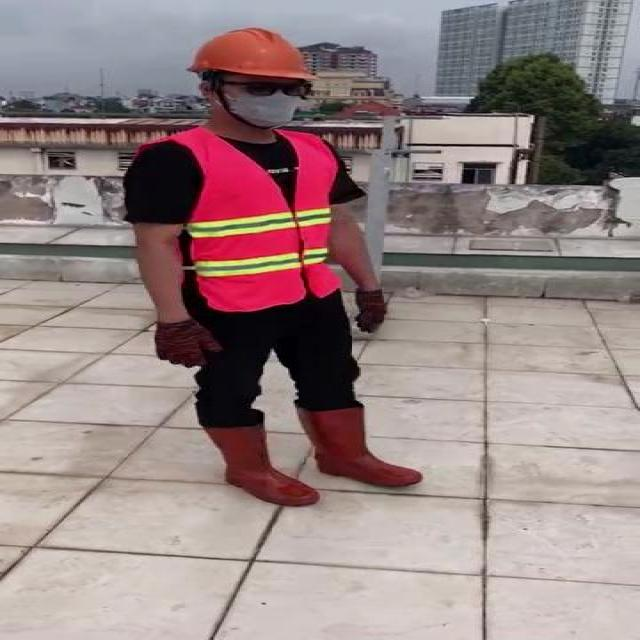boots: (299, 405, 421, 486), (206, 424, 318, 507)
face_mask: (230, 76, 314, 126)
glasses: (242, 78, 316, 100)
hand_glove: (153, 319, 224, 369), (361, 290, 389, 332)
head_helmet: (183, 27, 315, 80)
person: (115, 24, 434, 510)
vest: (183, 130, 343, 310)
